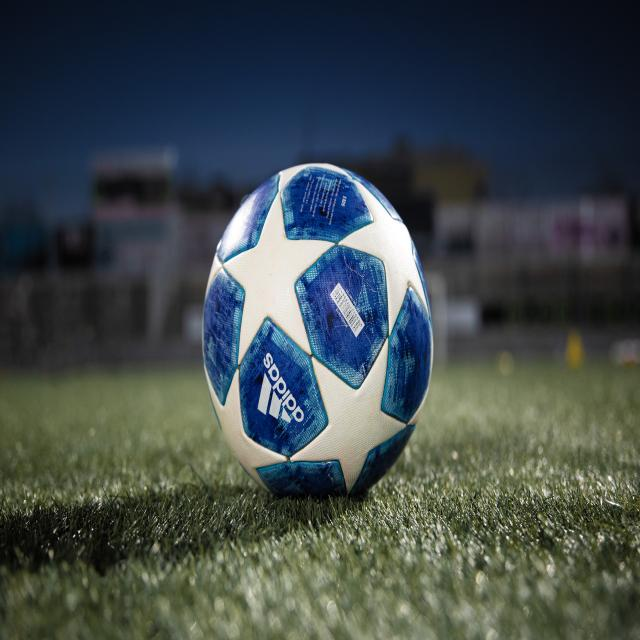soccer ball: (204, 163, 434, 504)
